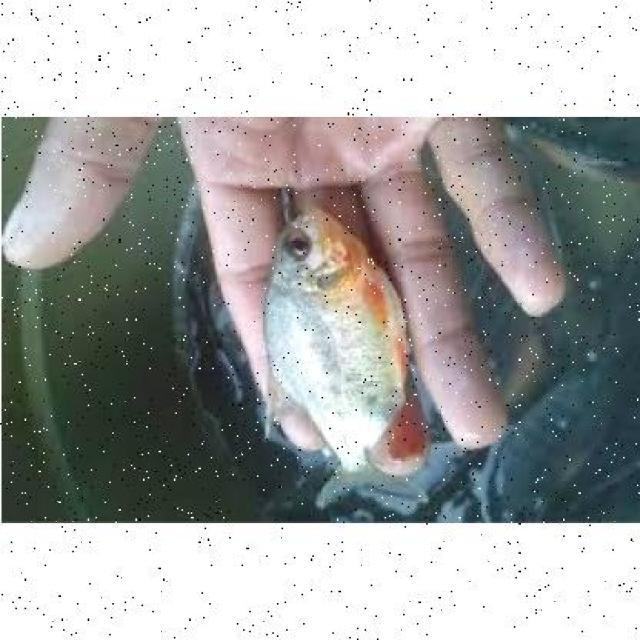ikan-pacu: (264, 203, 413, 472)
